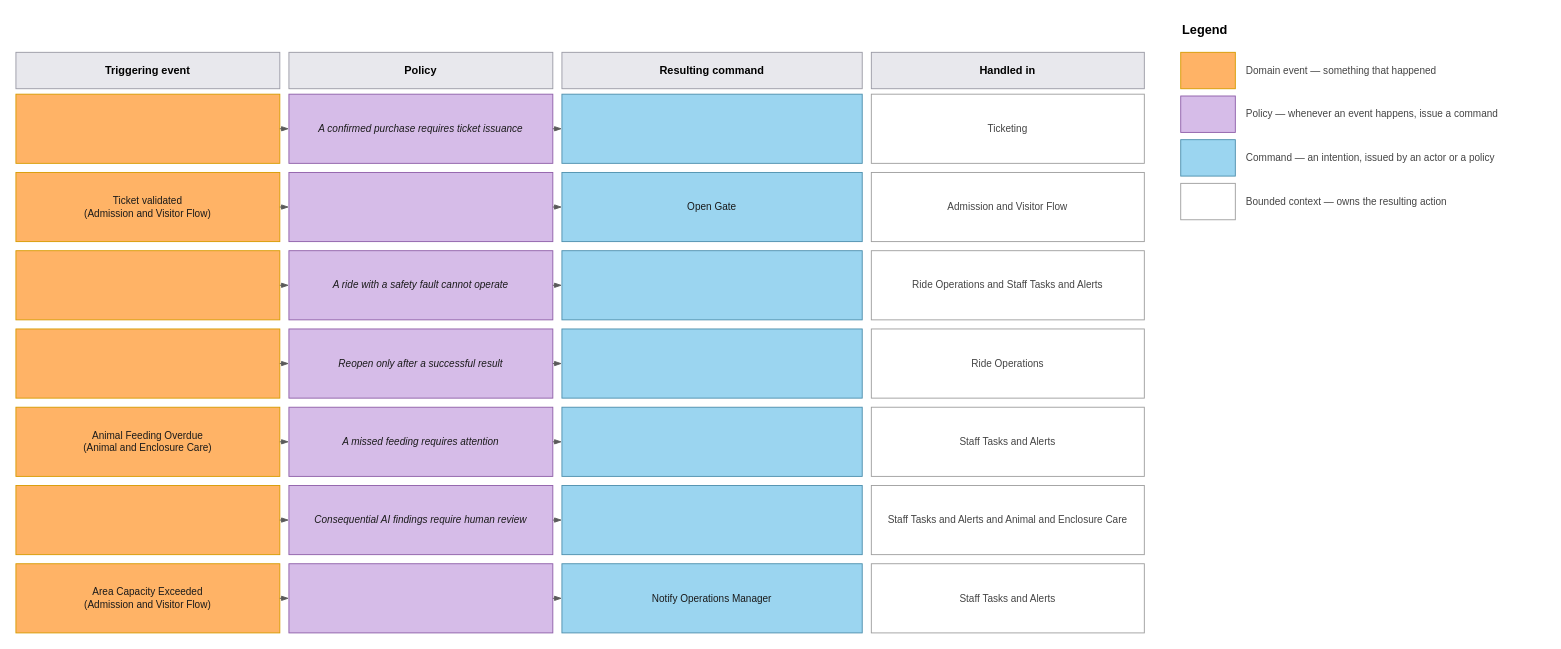
The diagram is 1561 pixels wide and 649 high, and some of its shapes have lost their labels. The centre of each missing label's shape, as x and y in pixels:
A valid eligible ticket permits entry: point 420,207
Animal Anomaly Detected (Estate Insights and AI Decision Support): point 147,520
Close Ride and Request Inspection: point 711,285
Create Keeper Task: point 711,441
Issue Ticket: point 711,128
Open Ride: point 711,363
Operations must respond to crowding: point 420,598
Payment Confirmed (Ticketing): point 147,128
Request Animal Inspection: point 711,520
Ride Fault Detected (Ride Operations): point 147,285
Ride Inspection Completed (Ride Operations): point 147,363
